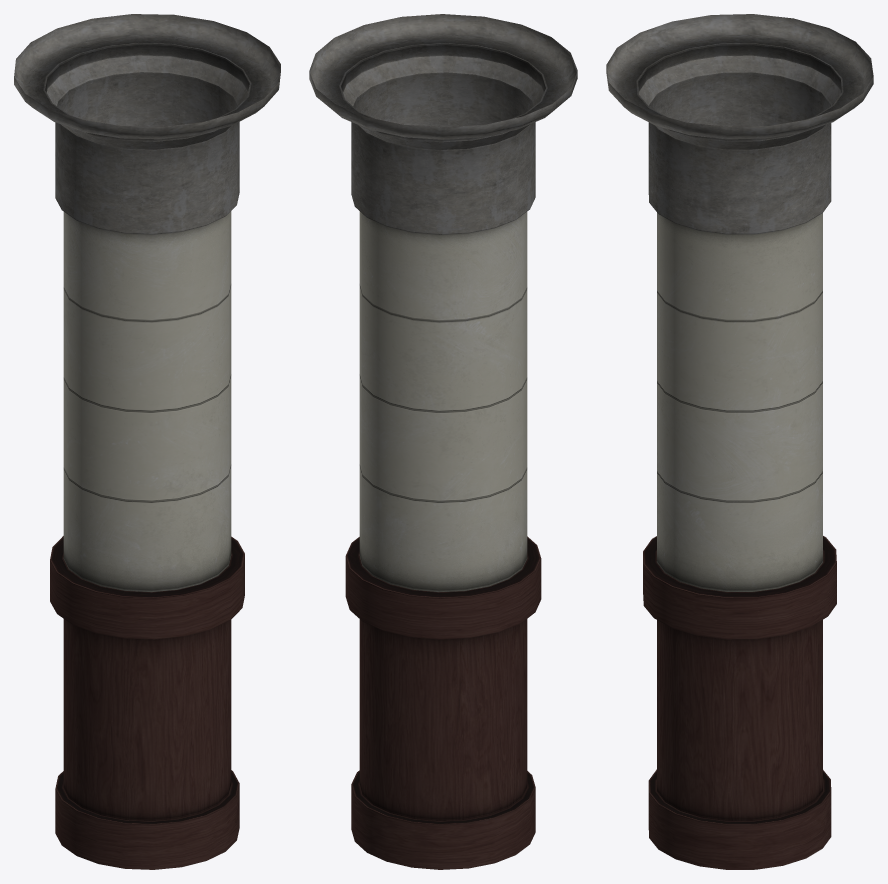
Rendered from Wall 6 Pillar 4.fbx.
3 views of the same model, side by side, from view 1: azimuth 30°, elevation 25°; view 2: azimuth 150°, elevation 25°; view 3: azimuth 270°, elevation 25° (orthographic).
Parts seen in each view (by area): view 1: Wall_6_Pillar_4; view 2: Wall_6_Pillar_4; view 3: Wall_6_Pillar_4.
Boxes of the visible parts, bbox=[...] form: Wall_6_Pillar_4: bbox=[14, 14, 280, 869]; Wall_6_Pillar_4: bbox=[309, 14, 577, 869]; Wall_6_Pillar_4: bbox=[606, 14, 873, 869].
Size of the model in its own units: 95.5 by 300 by 95.5.
